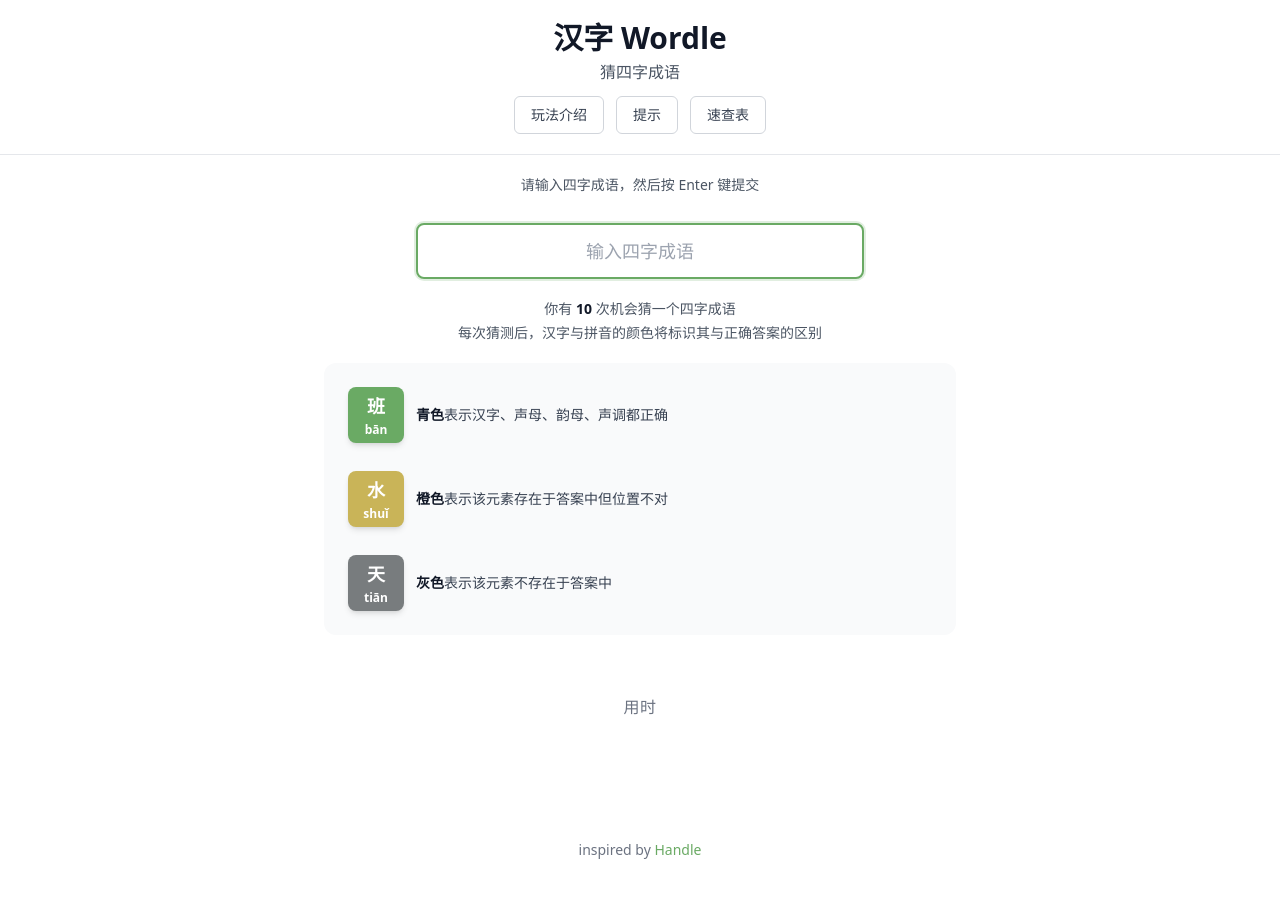
Test: Modal Functionality › should show further hint when further hint button is clicked
Click the button "提示".
click(647, 115)  # box [616,96,678,134]
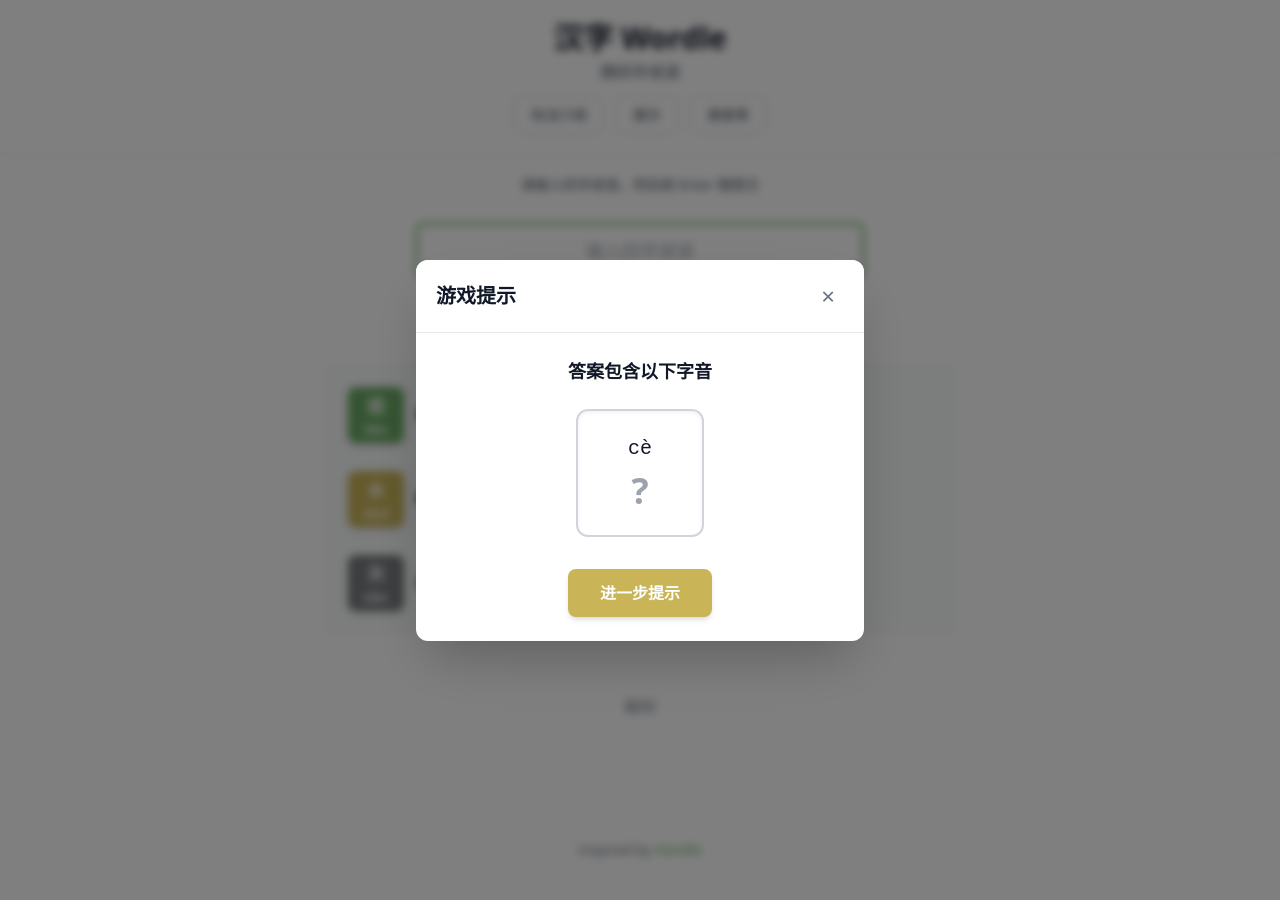
Now the heading "答案包含以下字音" is shown, box [568,356,712,384]
# 点击进一步提示按钮
Click the button "进一步提示".
click(640, 592)  # box [568,568,712,616]
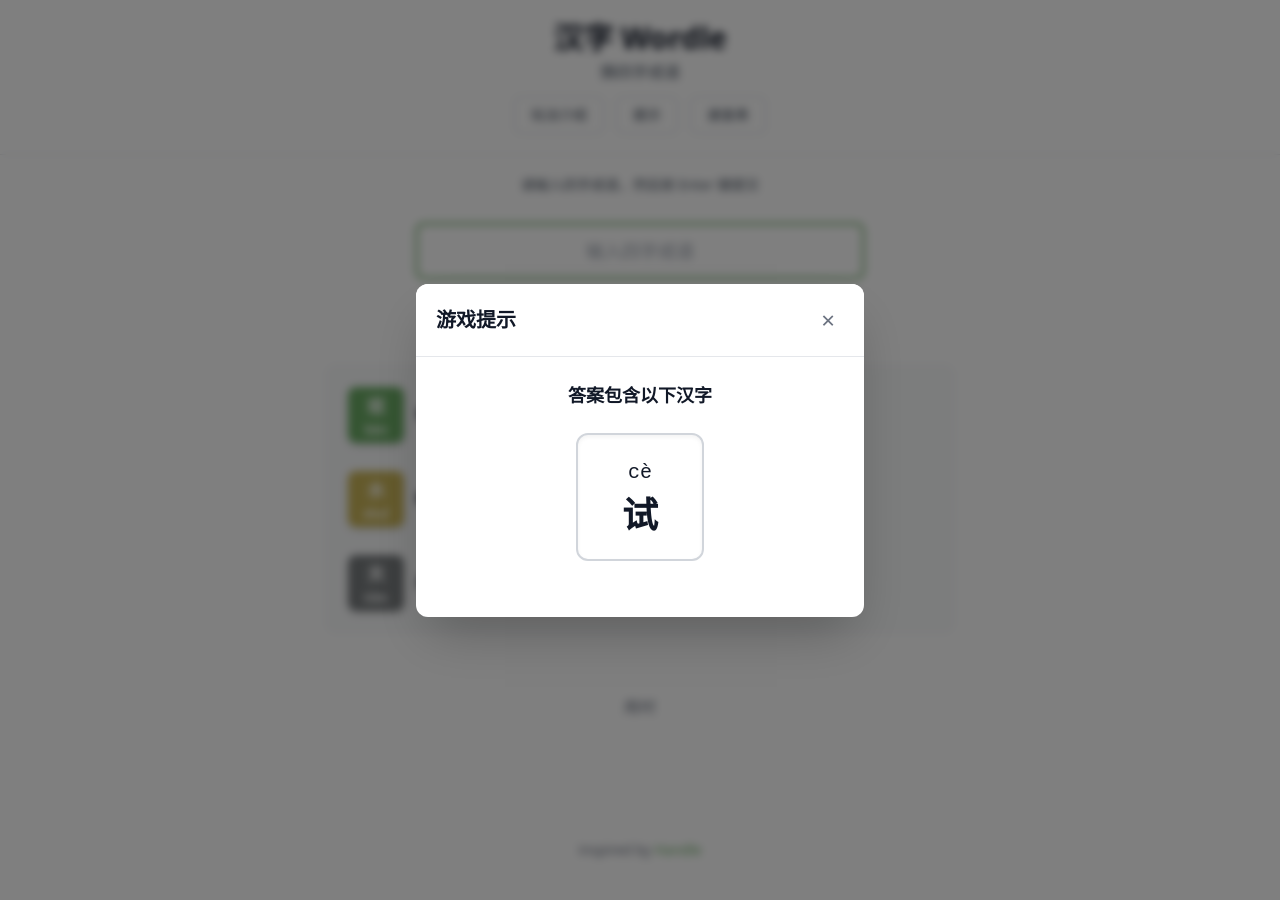
Now the heading "答案包含以下汉字" is shown, box [568,380,712,408]
